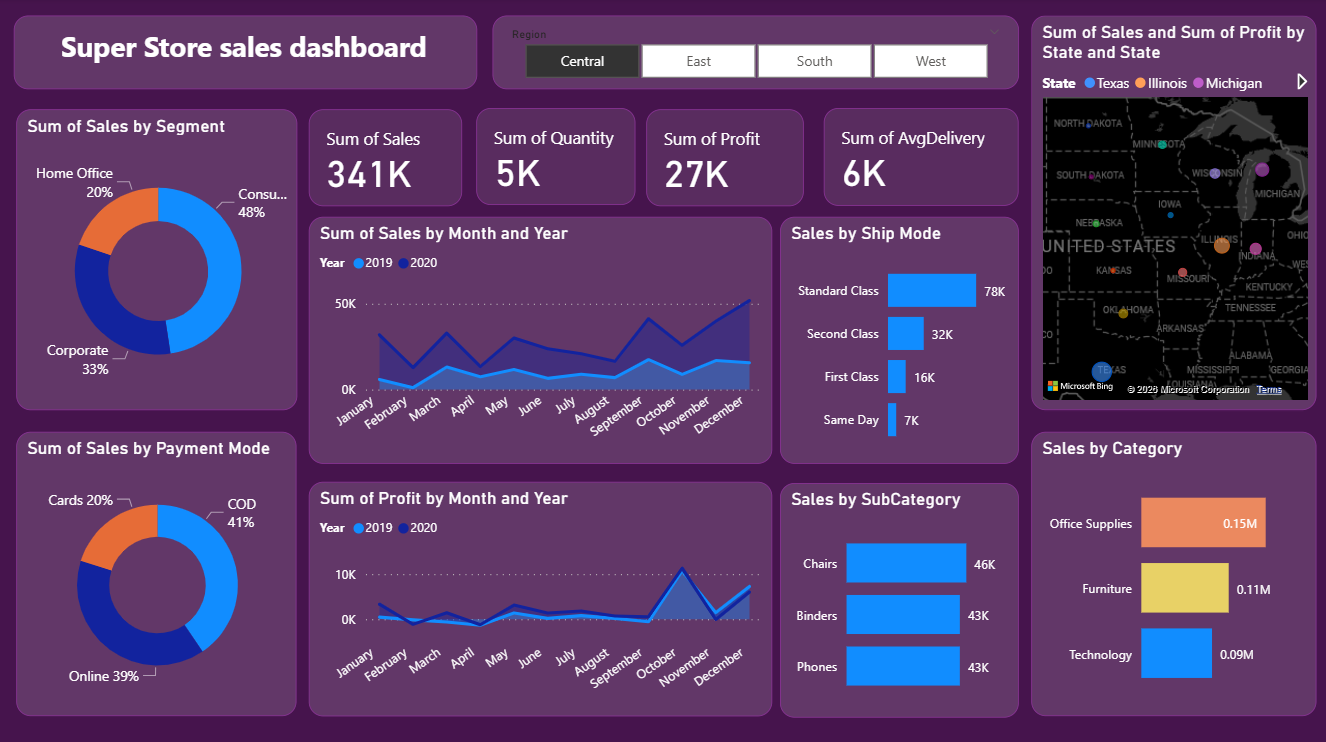

What the dashboard file says about the page in this screenshot:
{"tool":"powerbi","page":{"name":"Page 1","canvas":[1280,720],"ordinal":0},"visuals":[{"type":"clusteredBarChart","title":"Sales by Category","fields":{"Category":["Sheet1.Category"],"Y":["Sum(Sheet1.Sales)"]},"box":[995.4,418.2,275.6,274.2],"z":0},{"type":"clusteredBarChart","title":"Sales by SubCategory","fields":{"Category":["Sheet1.Sub-Category"],"Y":["Sum(Sheet1.Sales)"]},"box":[752.7,467.5,230.3,226.2],"z":1000},{"type":"clusteredBarChart","title":"Sales by Ship Mode","fields":{"Category":["Sheet1.Ship Mode"],"Y":["Sum(Sheet1.Sales)"]},"box":[752.7,211.1,230.3,238.6],"z":2000},{"type":"stackedAreaChart","fields":{"Category":["Sheet1.Order Date.Variation.Date Hierarchy.Month","Sheet1.Order Date.Variation.Date Hierarchy.Day"],"Y":["Sum(Sheet1.Sales)"],"Series":["Sheet1.Order Date.Variation.Date Hierarchy.Year"]},"box":[297.5,211.1,447,238.6],"z":3000},{"type":"stackedAreaChart","fields":{"Category":["Sheet1.Order Date.Variation.Date Hierarchy.Month","Sheet1.Order Date.Variation.Date Hierarchy.Day"],"Series":["Sheet1.Order Date.Variation.Date Hierarchy.Year"],"Y":["Sum(Sheet1.Profit)"]},"box":[297.5,466.2,447,226.2],"z":4000},{"type":"map","fields":{"Category":["Sheet1.State"],"Series":["Sheet1.State"],"Size":["Sum(Sheet1.Sales)"]},"box":[995.4,16.5,275.6,381.2],"z":5000},{"type":"donutChart","fields":{"Category":["Sheet1.Segment"],"Y":["Sum(Sheet1.Sales)"]},"box":[15.1,106.9,271.5,290.7],"z":6000},{"type":"donutChart","fields":{"Category":["Sheet1.Payment Mode"],"Y":["Sum(Sheet1.Sales)"]},"box":[15.1,418.2,270.1,274.2],"z":7000},{"type":"slicer","fields":{"Values":["Sheet1.Region"]},"box":[475.8,16.5,507.3,71.3],"z":8000},{"type":"textbox","box":[13.3,16.9,447.4,71.2],"z":9000},{"type":"cardVisual","fields":{"Data":["Sum(Sheet1.Sales)"]},"box":[297.5,106.9,148.1,93.2],"z":10000},{"type":"cardVisual","fields":{"Data":["Sum(Sheet1.Quantity)"]},"box":[459.3,105.6,153.6,93.2],"z":11000},{"type":"cardVisual","fields":{"Data":["Sum(Sheet1.Profit)"]},"box":[623.8,106.9,152.2,93.2],"z":12000},{"type":"cardVisual","fields":{"Data":["Sum(SuperStore_Sales.AvgDelivery)"]},"box":[795.2,105.6,187.8,94.6],"z":13000}]}

Visuals, with their boxes in screenshot pixels (x1, y1, x2, y2), scaled from the page's 1280x720 canvas onto the 1326x742 screenshot:
"Sales by Category" clusteredBarChart: select_region(1031, 431, 1317, 714)
"Sales by SubCategory" clusteredBarChart: select_region(780, 482, 1018, 715)
"Sales by Ship Mode" clusteredBarChart: select_region(780, 218, 1018, 463)
stackedAreaChart - Sheet1.Order Date.Variation.Date Hierarchy.Month x Sheet1.Order Date.Variation.Date Hierarchy.Day: select_region(308, 218, 771, 463)
stackedAreaChart - Sheet1.Order Date.Variation.Date Hierarchy.Month x Sheet1.Order Date.Variation.Date Hierarchy.Day: select_region(308, 480, 771, 714)
map - Sheet1.State x Sheet1.State: select_region(1031, 17, 1317, 410)
donutChart - Sheet1.Segment x Sum(Sheet1.Sales): select_region(16, 110, 297, 410)
donutChart - Sheet1.Payment Mode x Sum(Sheet1.Sales): select_region(16, 431, 295, 714)
slicer - Sheet1.Region: select_region(493, 17, 1018, 90)
textbox: select_region(14, 17, 477, 91)
cardVisual - Sum(Sheet1.Sales): select_region(308, 110, 462, 206)
cardVisual - Sum(Sheet1.Quantity): select_region(476, 109, 635, 205)
cardVisual - Sum(Sheet1.Profit): select_region(646, 110, 804, 206)
cardVisual - Sum(SuperStore_Sales.AvgDelivery): select_region(824, 109, 1018, 206)
